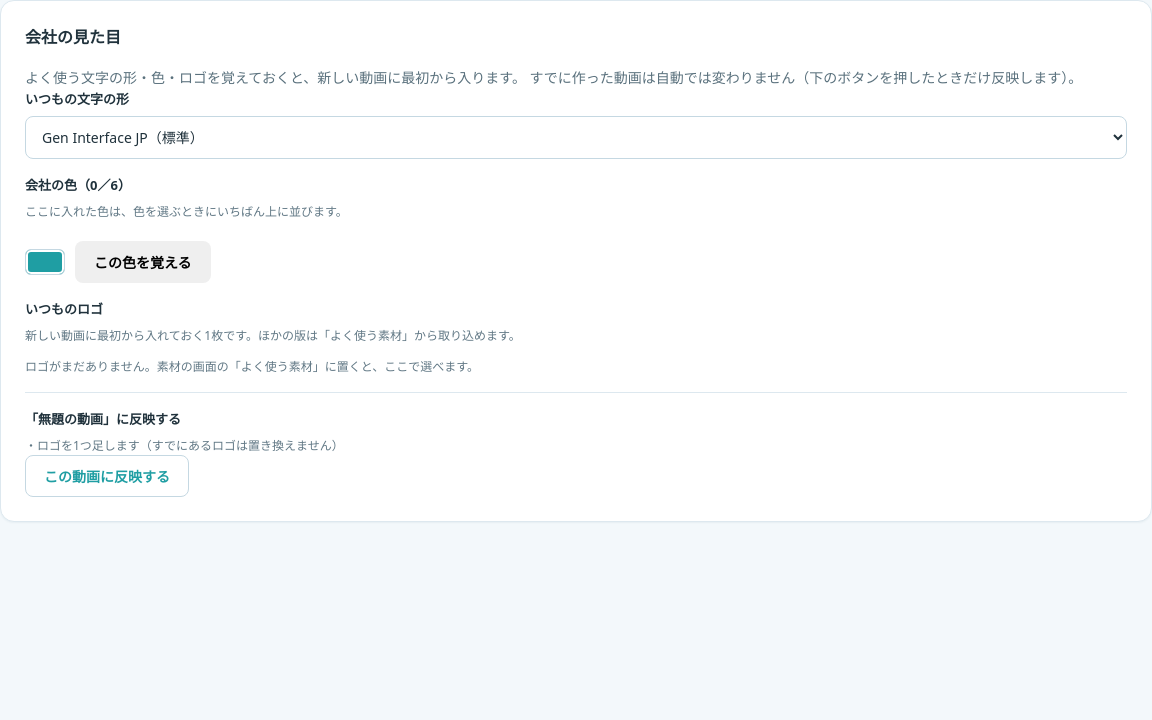
it: BrandKitSection › ロゴを足しただけのときは、戻らないことを言い「元に戻す」を出さない
Click the button "この動画に反映する": point(107, 476) [25,455,189,497]
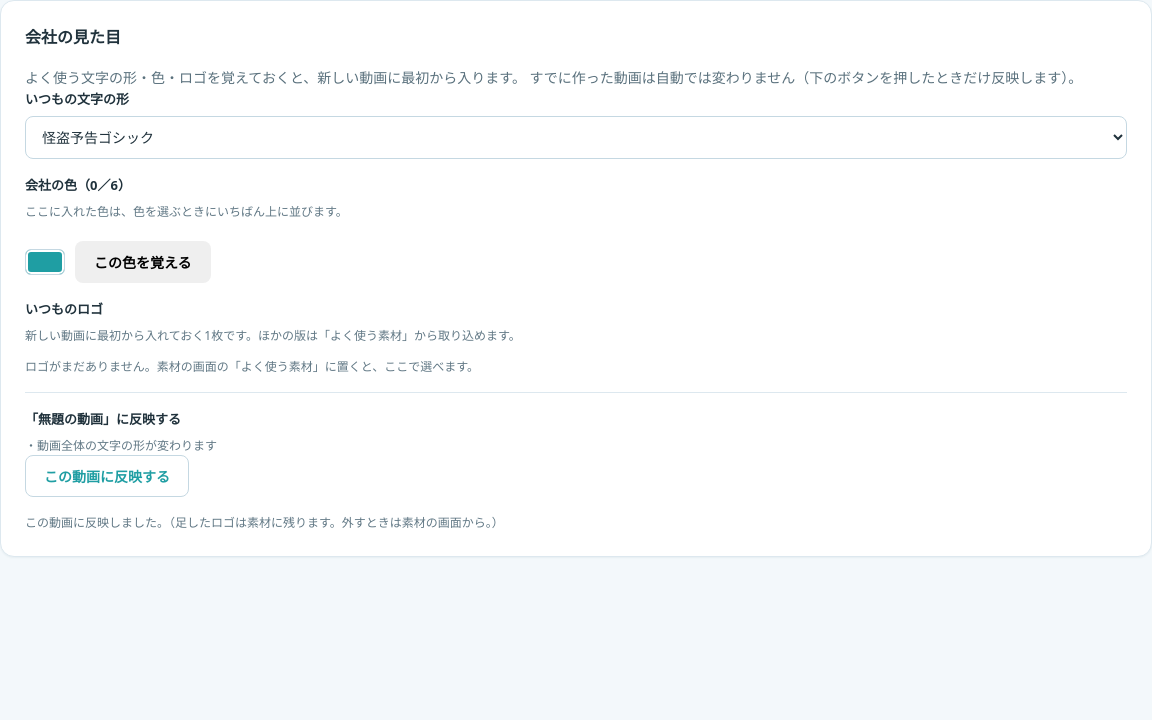
Result: the text "この動画に反映しました。（足したロゴは素材に残ります。外すときは素材の画面から。）" is shown at [25,513,504,532]
